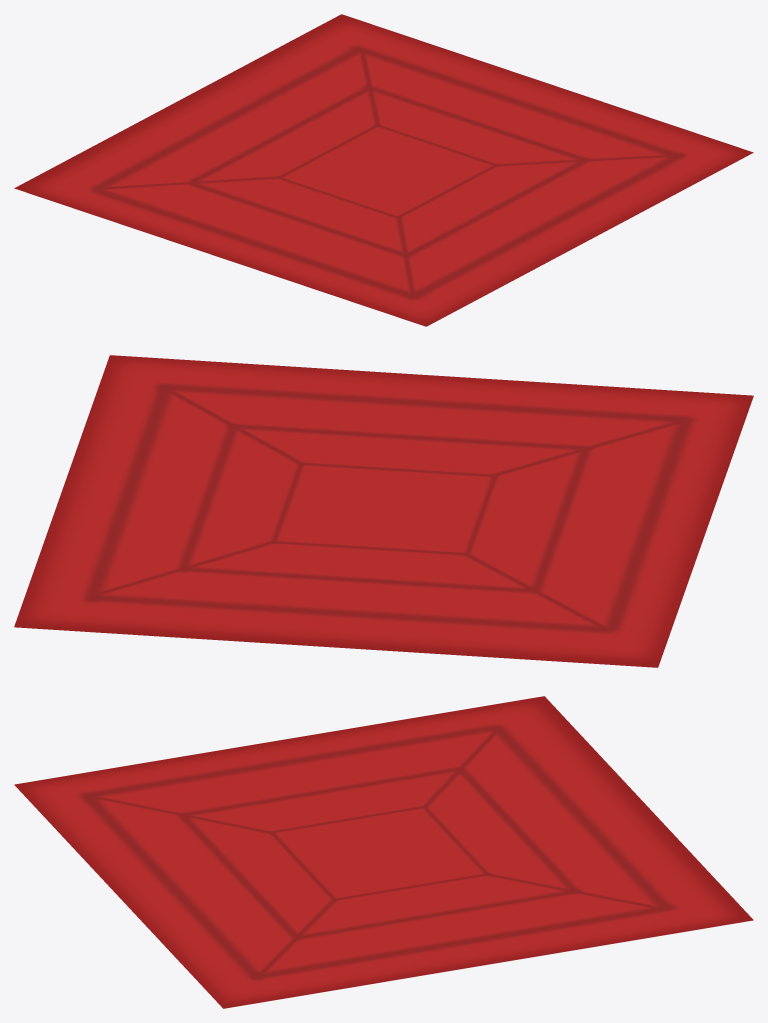
The model's file is Tafelkleedje.fbx.
The picture shows the model from 3 angles, top to bottom: view 1: azimuth 30°, elevation 25°; view 2: azimuth 150°, elevation 25°; view 3: azimuth 270°, elevation 25°; orthographic projection. The views are drawn at different scales.
Parts seen in each view (by area): view 1: pPlane1; view 2: pPlane1; view 3: pPlane1.
Boxes of the visible parts, box(x1,y1,x2,y2) form: pPlane1: box(14, 14, 753, 326); pPlane1: box(14, 355, 753, 667); pPlane1: box(14, 696, 753, 1008).
Bounding box in the file's own units: 7.76 × 0 × 7.76.
1 material, 1 textured.
